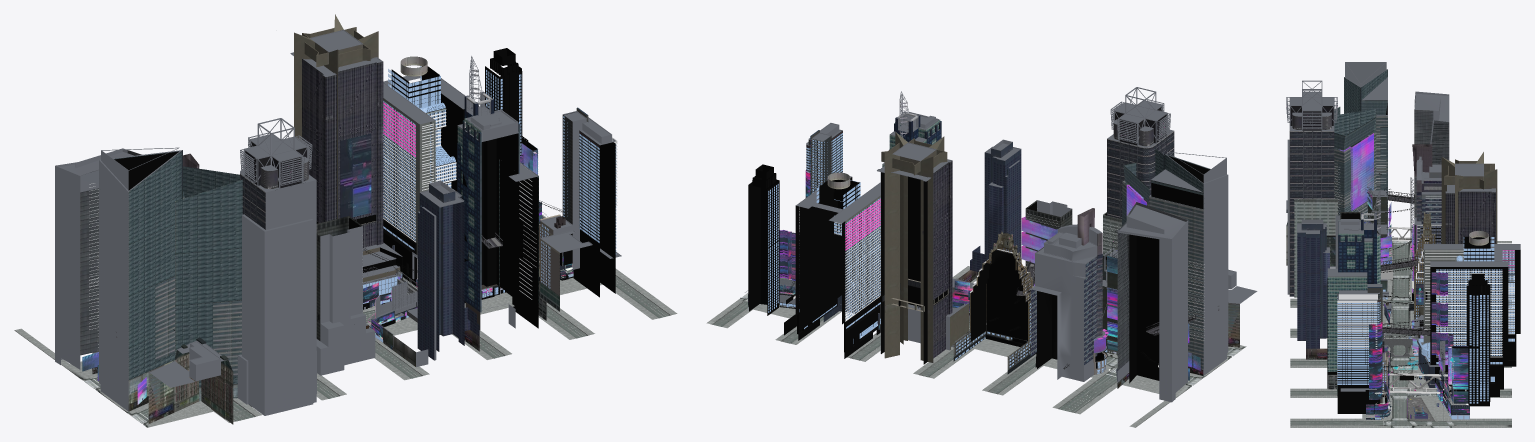
Rendered from jotrot-transformed.glb.
3 renders of one model, left to right at view 1: azimuth 30°, elevation 25°; view 2: azimuth 150°, elevation 25°; view 3: azimuth 270°, elevation 25°, orthographic. The views are drawn at different scales.
Visible parts, largest first — view 1: Object_14, Object_180, Object_26, Object_41, Object_32, Object_11, Plane.007, Object_186, Object_189; view 2: Object_14, Object_26, Object_180, Object_41, Object_32, Object_11, Plane.007, Object_186, Object_189; view 3: Object_180, Object_14, Object_26, Object_32, Object_41, Object_11, Plane.007, Cube.031, Object_186, Object_4, BézierCurve.062, Cube.046.
Part boxes in pixels (x1=…): Object_14: x1=55, y1=30, x2=621, y2=415; Object_180: x1=80, y1=58, x2=538, y2=406; Object_26: x1=114, y1=48, x2=615, y2=328; Object_41: x1=92, y1=14, x2=615, y2=424; Object_32: x1=14, y1=214, x2=677, y2=427; Object_11: x1=340, y1=107, x2=587, y2=314; Plane.007: x1=89, y1=112, x2=617, y2=347; Object_186: x1=82, y1=245, x2=417, y2=404; Object_189: x1=368, y1=102, x2=415, y2=329; Object_14: x1=740, y1=87, x2=1257, y2=402; Object_26: x1=748, y1=156, x2=1209, y2=383; Object_180: x1=882, y1=111, x2=1210, y2=370; Object_41: x1=806, y1=101, x2=1239, y2=388; Object_32: x1=706, y1=266, x2=1246, y2=427; Object_11: x1=748, y1=130, x2=1189, y2=343; Plane.007: x1=799, y1=139, x2=1204, y2=340; Object_186: x1=823, y1=250, x2=1200, y2=380; Object_189: x1=845, y1=127, x2=1164, y2=250; Object_180: x1=1289, y1=69, x2=1495, y2=371; Object_14: x1=1286, y1=62, x2=1520, y2=427; Object_26: x1=1326, y1=103, x2=1520, y2=418; Object_32: x1=1290, y1=241, x2=1511, y2=427; Object_41: x1=1286, y1=106, x2=1514, y2=403; Object_11: x1=1339, y1=133, x2=1469, y2=418; Plane.007: x1=1330, y1=135, x2=1514, y2=357; Cube.031: x1=1380, y1=191, x2=1430, y2=335; Object_186: x1=1367, y1=191, x2=1447, y2=406; Object_4: x1=1388, y1=227, x2=1451, y2=389; BézierCurve.062: x1=1381, y1=208, x2=1447, y2=381; Cube.046: x1=1383, y1=334, x2=1418, y2=357.
Size of the model in its own units: 29.8 by 20.82 by 15.74.
Materials: 22 (20 with a texture image).
